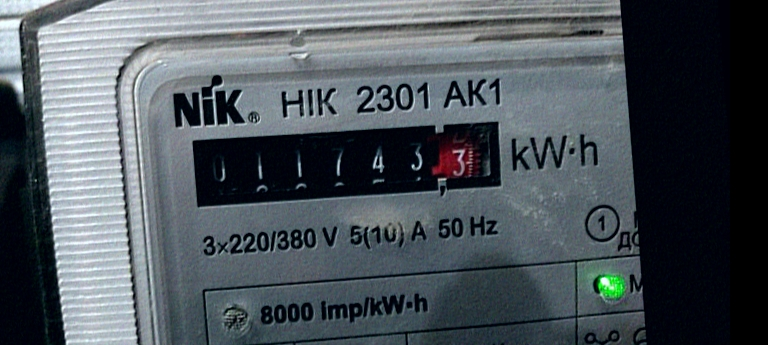0: (208, 149, 230, 186)
1: (291, 143, 309, 178), (254, 147, 267, 180)
3: (405, 137, 427, 174), (450, 146, 470, 180)
4: (368, 140, 388, 176)
7: (329, 142, 350, 178)
screen: (178, 103, 518, 223)
